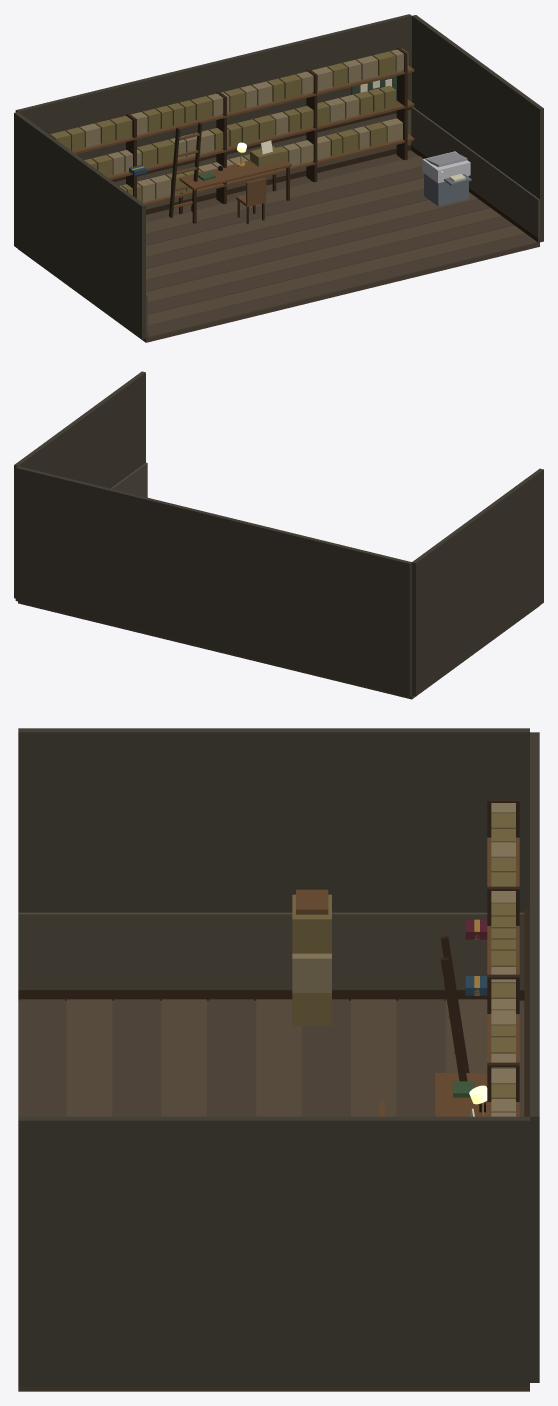
Rendered from archives.glb.
The picture shows the model from 3 angles, top to bottom: view 1: azimuth 30°, elevation 25°; view 2: azimuth 150°, elevation 25°; view 3: azimuth 270°, elevation 25°; orthographic projection. The views are drawn at different scales.
Visible parts, largest first — view 1: WallLeft, WallBack, WallRight, Plank0, Plank1, BandRight, Plank2, Plank3, Plank4, Floor, Plank5, Plank6 (+28 smaller); view 2: WallBack, WallLeft, WallRight, Floor, BandRight; view 3: WallRight, WallLeft, BandLeft, WallBack, Floor, Plank1, Plank0, Plank2, Plank3, Plank4, Plank7, Plank5 (+12 smaller).
Part boxes in pixels (x1=…): WallLeft: x1=14, y1=112, x2=145, y2=339; WallBack: x1=15, y1=14, x2=411, y2=159; WallRight: x1=412, y1=15, x2=543, y2=242; Plank0: x1=147, y1=234, x2=537, y2=337; Plank1: x1=147, y1=225, x2=525, y2=325; BandRight: x1=411, y1=107, x2=539, y2=242; Plank2: x1=147, y1=216, x2=513, y2=314; Plank3: x1=146, y1=208, x2=501, y2=302; Plank4: x1=146, y1=199, x2=490, y2=291; Floor: x1=18, y1=150, x2=539, y2=342; Plank5: x1=146, y1=192, x2=477, y2=280; Plank6: x1=146, y1=189, x2=428, y2=268; WallBack: x1=15, y1=466, x2=411, y2=696; WallLeft: x1=412, y1=468, x2=543, y2=695; WallRight: x1=14, y1=371, x2=145, y2=598; Floor: x1=18, y1=601, x2=538, y2=699; BandRight: x1=111, y1=462, x2=147, y2=497; WallRight: x1=18, y1=1116, x2=529, y2=1386; WallLeft: x1=18, y1=728, x2=529, y2=912; BandLeft: x1=18, y1=912, x2=524, y2=989; WallBack: x1=530, y1=732, x2=539, y2=1382; Floor: x1=18, y1=1000, x2=529, y2=1391; Plank1: x1=66, y1=999, x2=112, y2=1116; Plank0: x1=19, y1=999, x2=64, y2=1116; Plank2: x1=114, y1=999, x2=159, y2=1116; Plank3: x1=161, y1=999, x2=206, y2=1116; Plank4: x1=209, y1=999, x2=254, y2=1116; Plank7: x1=351, y1=999, x2=396, y2=1116; Plank5: x1=256, y1=999, x2=301, y2=1116.
Bounding box in the file's own units: 9.8 × 3.2 × 5.5.
